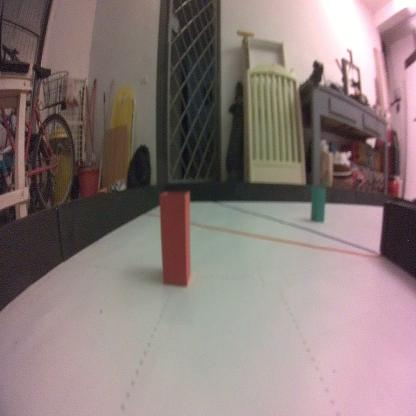green: (310, 185, 327, 223)
red: (159, 189, 192, 287)
